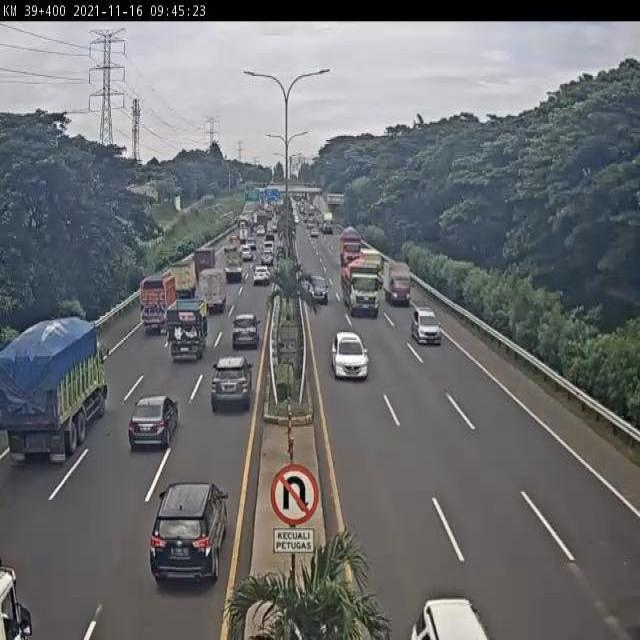car: (152, 484, 231, 587), (129, 397, 182, 448), (211, 359, 252, 413), (330, 332, 371, 381), (413, 309, 441, 351), (306, 269, 331, 307), (231, 314, 260, 346)
small truck: (383, 258, 414, 310), (200, 266, 228, 314), (164, 260, 196, 299)
truck-l-: (3, 320, 108, 461), (342, 260, 382, 319)
truck-m-: (168, 300, 207, 365), (139, 274, 178, 334)
